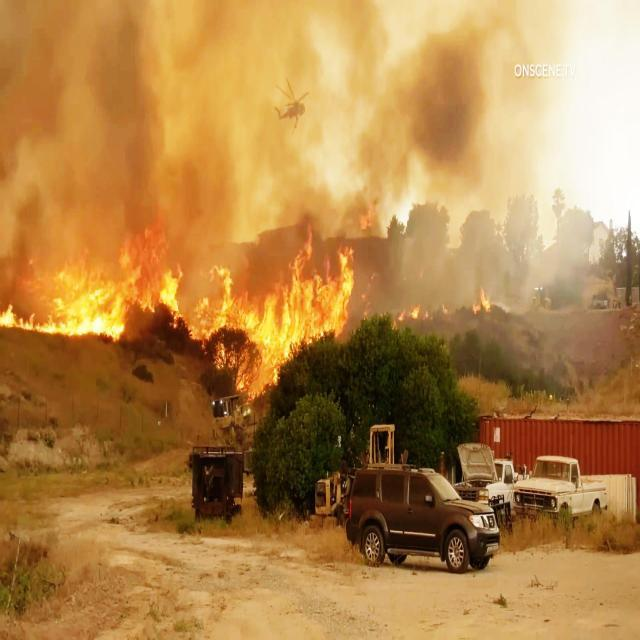Fire: (194, 238, 352, 406), (2, 235, 188, 346), (366, 285, 499, 329)
Smoke: (2, 2, 564, 228)
